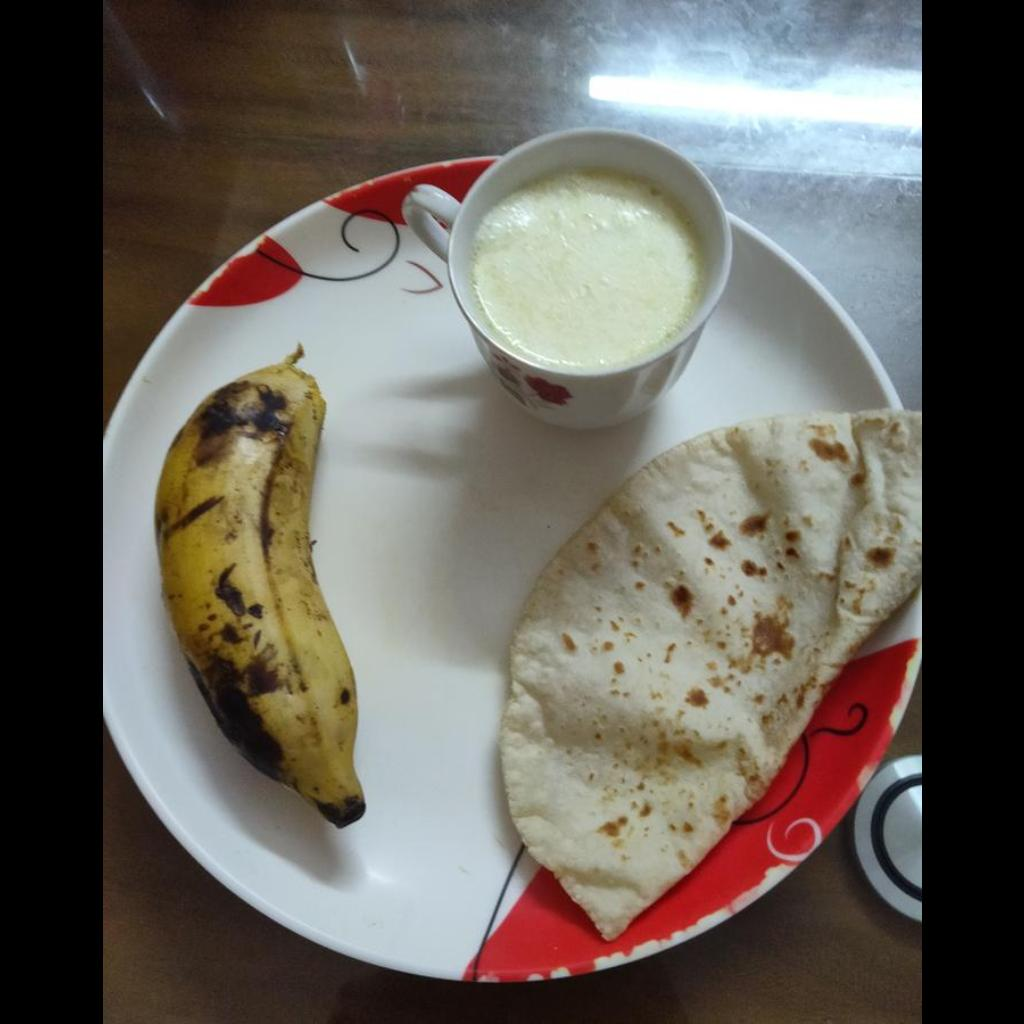banana: (150, 356, 368, 826)
milk: (470, 167, 698, 364)
ruti: (498, 408, 919, 942)
